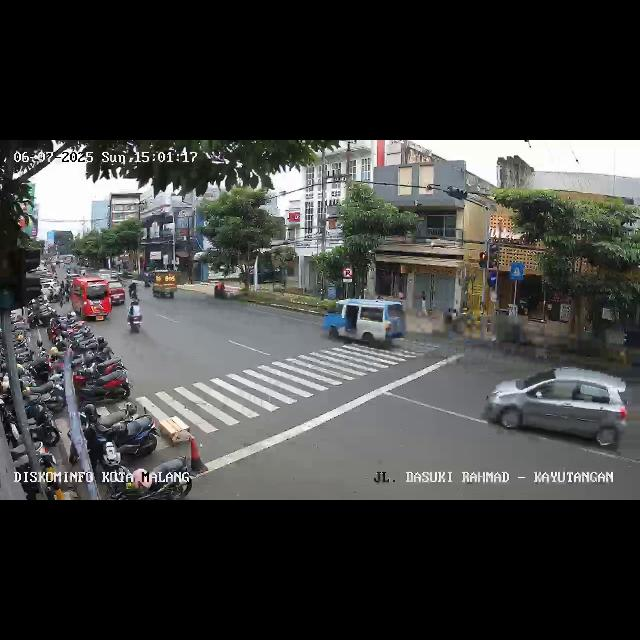car: (486, 364, 636, 452), (322, 297, 406, 347), (70, 278, 114, 324), (153, 268, 180, 298), (102, 278, 126, 306), (97, 268, 111, 282)
